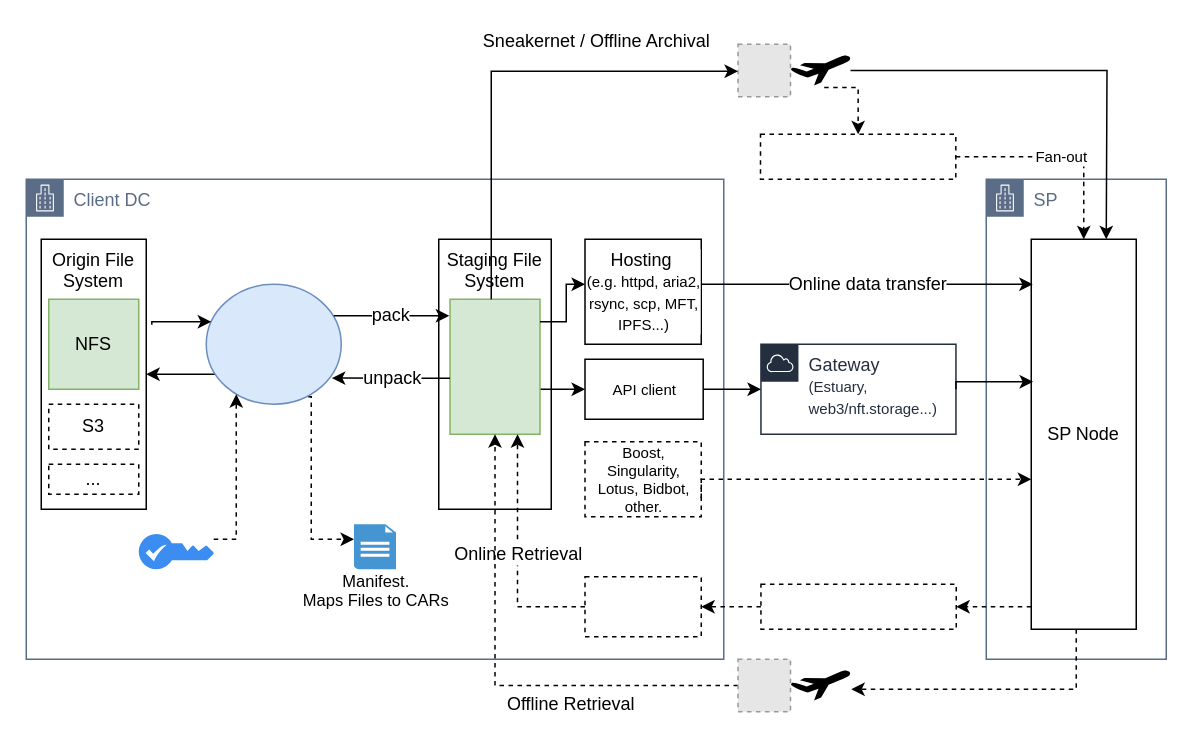
Image size: 1193x746. Some labels were removed from this diagram. Grey dashed boxes stand in for pictures. Here are the shapes that lost their labels. From the top down, the centre of each, then its label:
At (x=857, y=156): "Broker / Concentrator".
At (x=273, y=343): "Packer".
At (x=494, y=366): "CAR set".
At (x=175, y=550): "Encryption Key".
At (x=642, y=606): "Retrieval client".
At (x=857, y=606): "Retrieval Provider".
